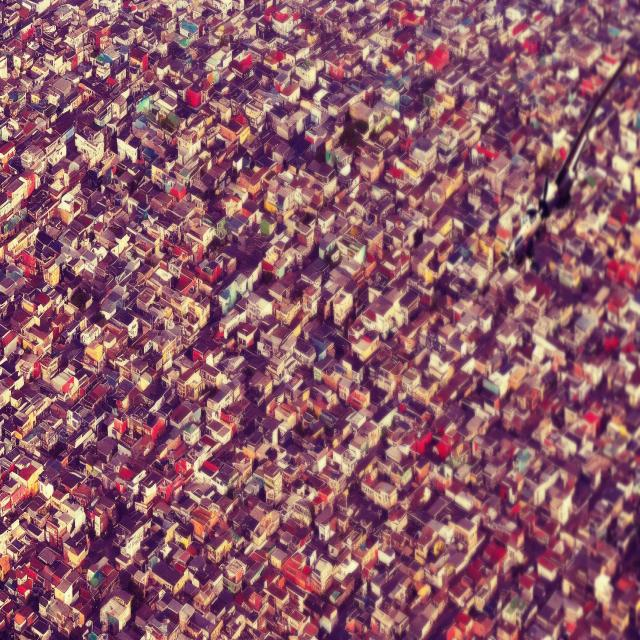airplane: (500, 49, 629, 265)
